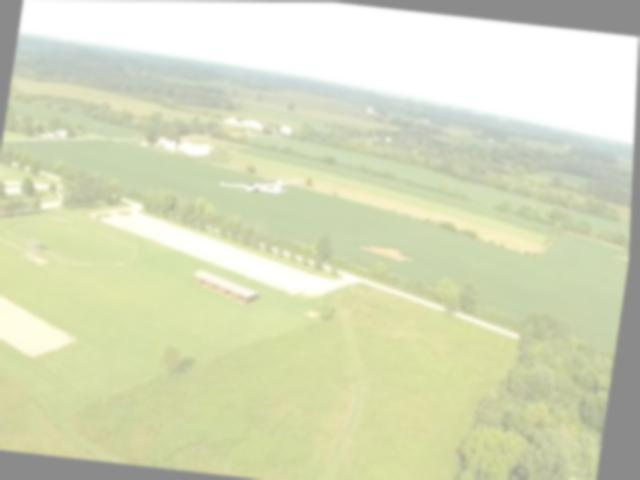uav: (211, 159, 312, 210)
